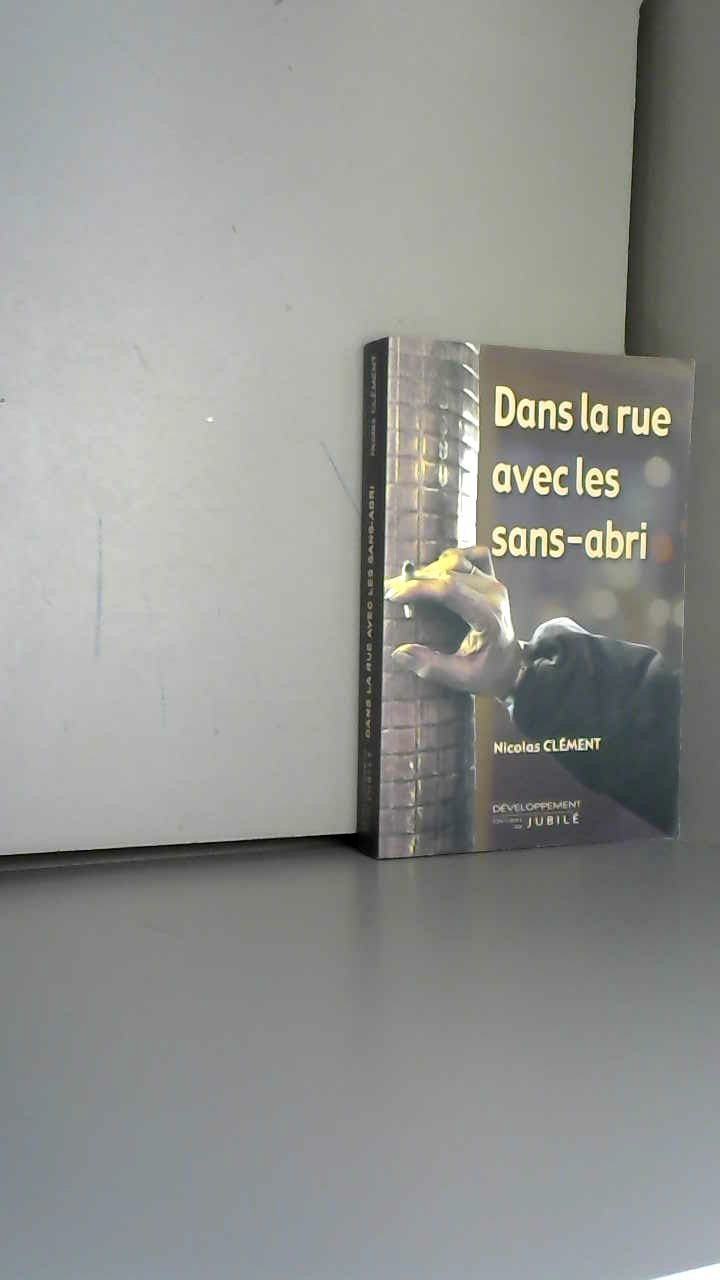book: (330, 310, 720, 901)
